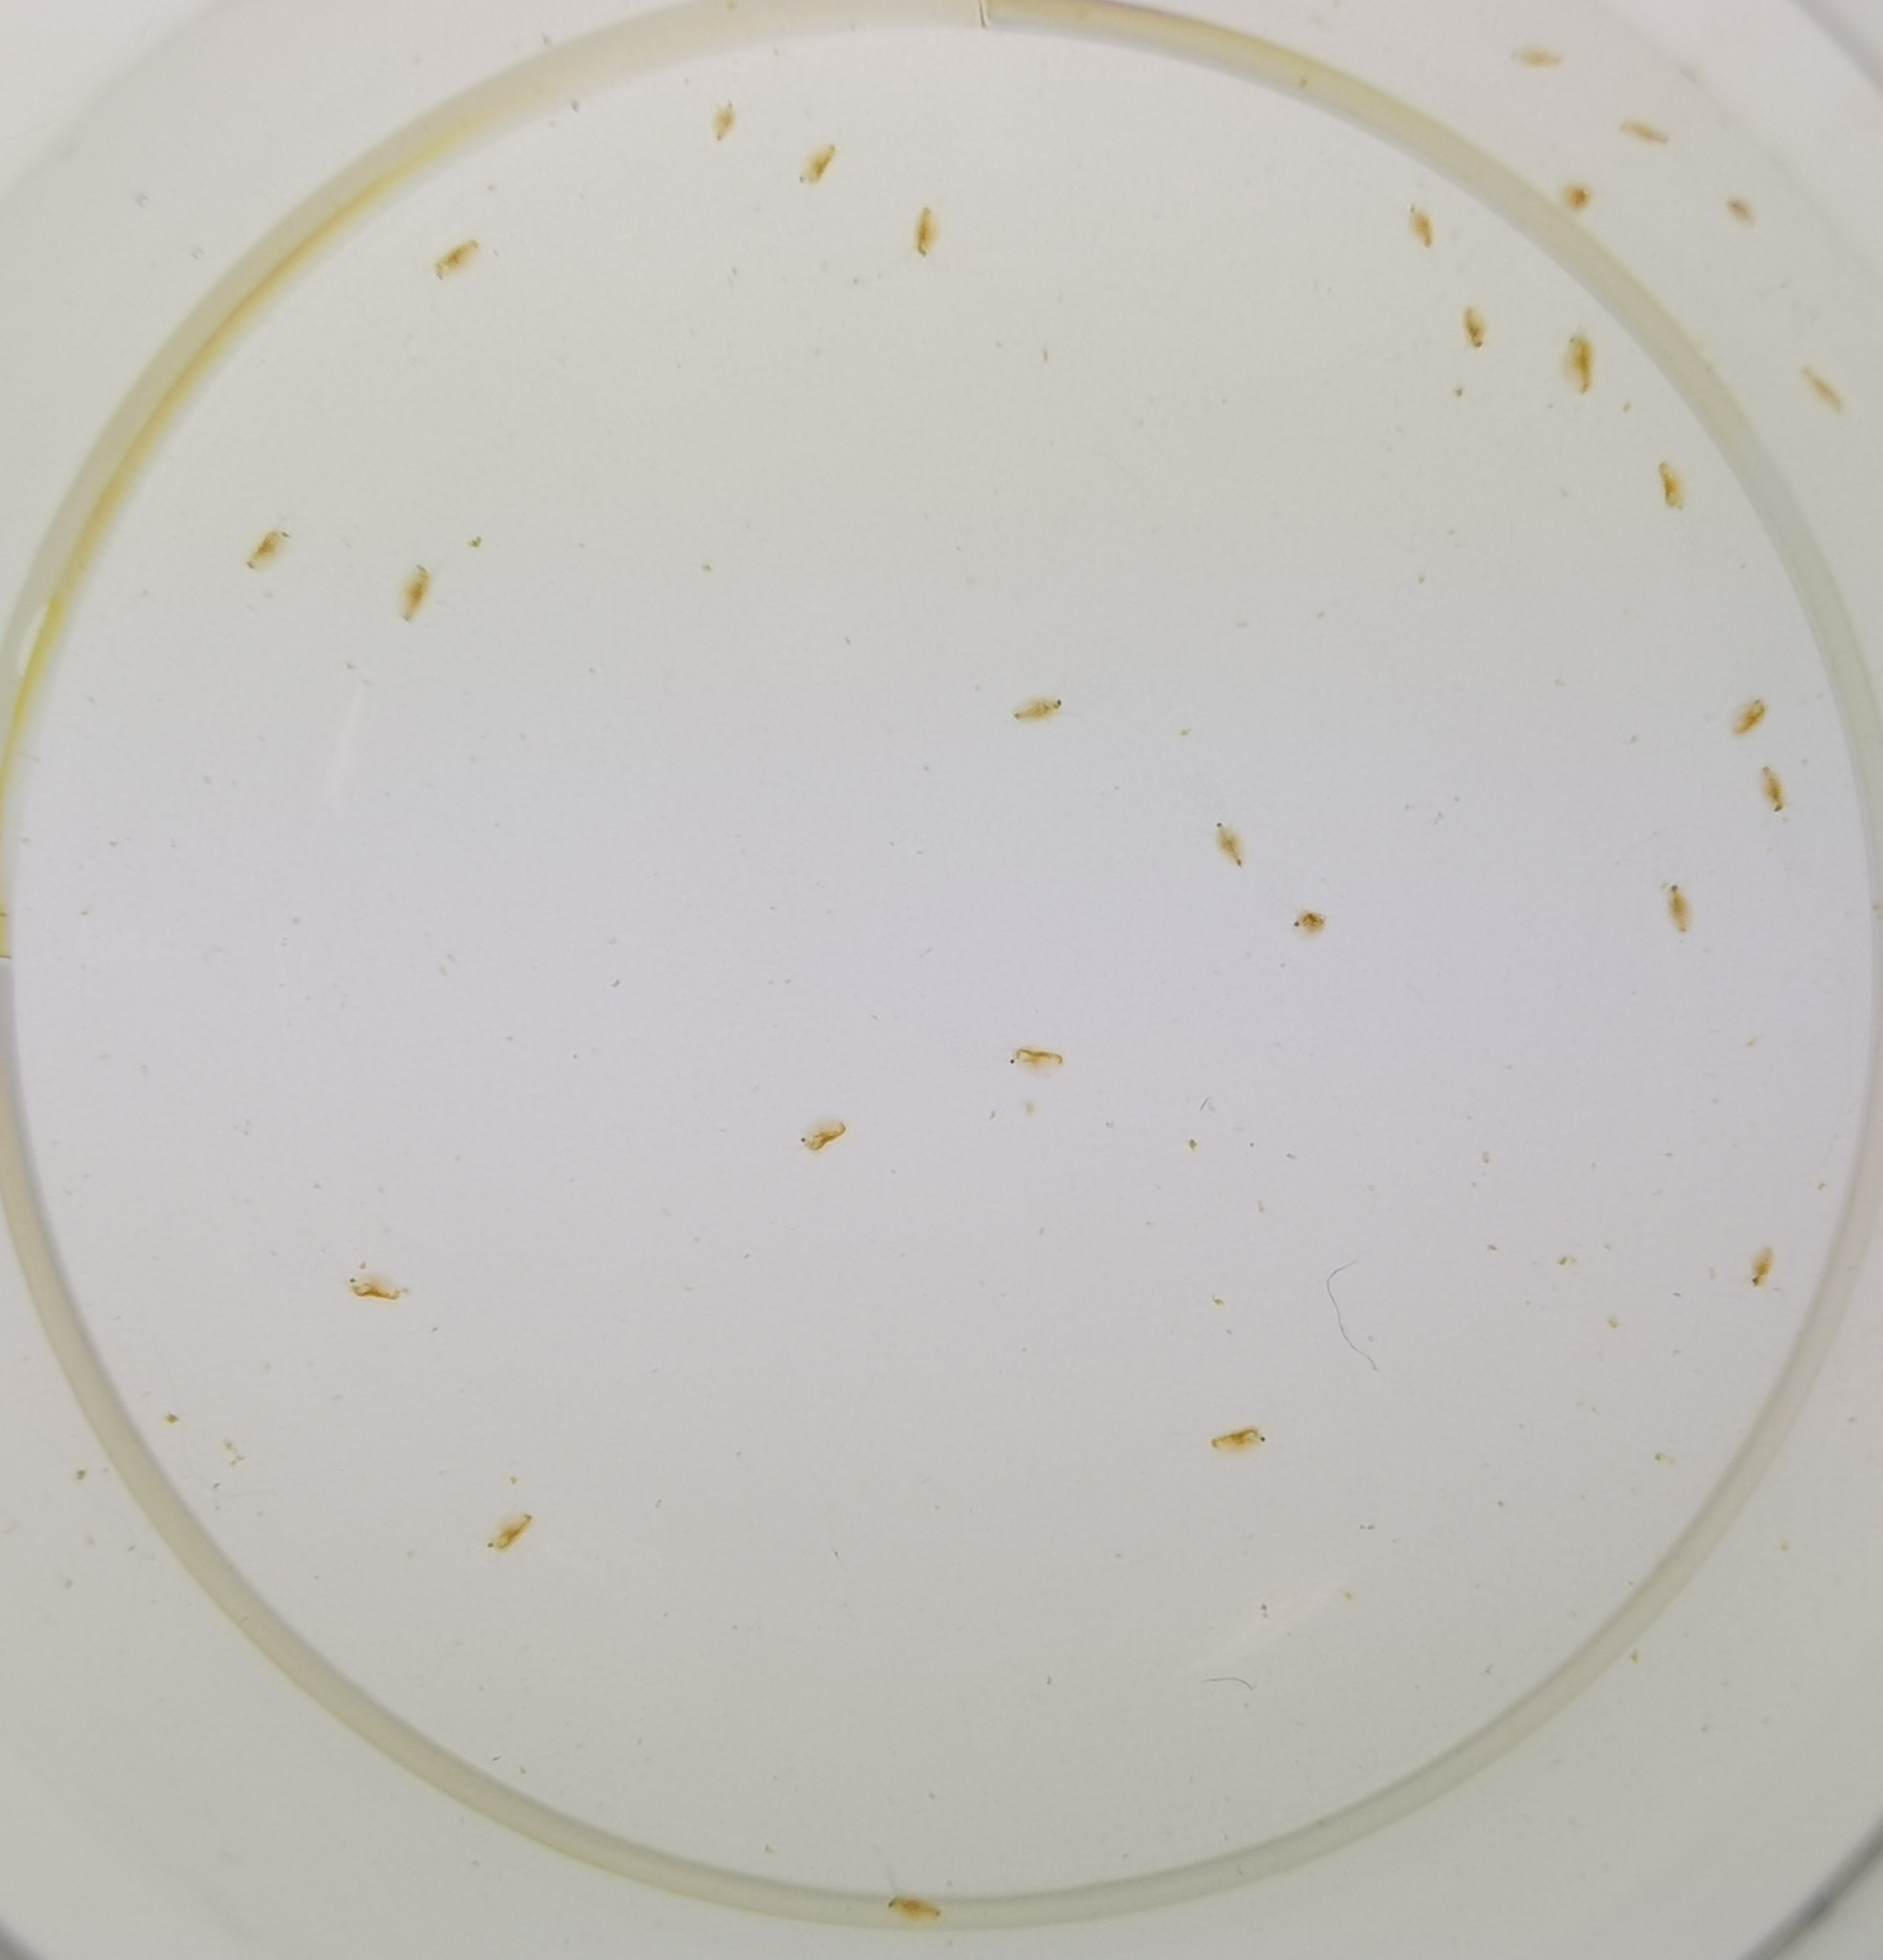D.magna: (345, 1263, 409, 1309), (245, 523, 296, 576), (1559, 329, 1598, 397), (485, 1508, 537, 1557), (1662, 875, 1701, 938), (1654, 455, 1694, 514), (885, 1892, 947, 1930), (434, 234, 483, 280), (399, 560, 430, 626), (1398, 198, 1442, 245), (1213, 819, 1253, 870), (1006, 1043, 1064, 1078), (1209, 1423, 1267, 1456), (796, 143, 840, 187), (910, 203, 945, 257), (800, 1116, 849, 1155), (1731, 696, 1769, 740), (1759, 766, 1790, 814), (1011, 698, 1067, 724), (1461, 301, 1491, 350), (710, 101, 740, 140), (1750, 1246, 1774, 1290), (1293, 908, 1328, 936)
